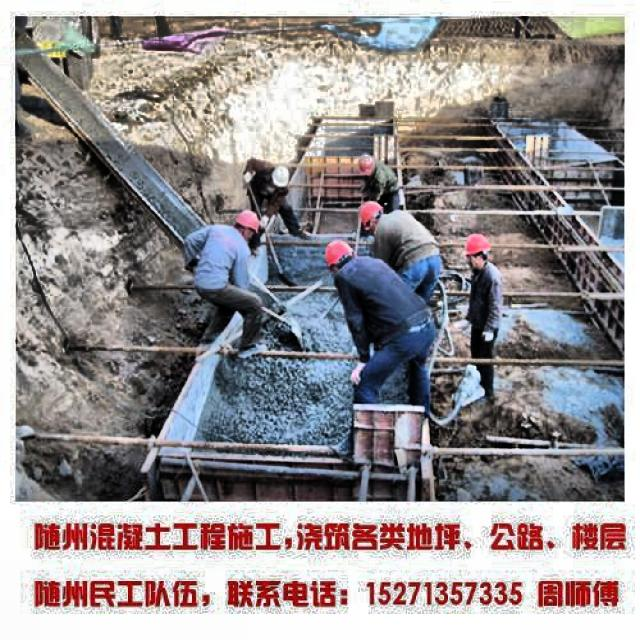helmet: (226, 204, 264, 247), (317, 230, 353, 274), (463, 232, 498, 276), (349, 198, 388, 235), (264, 158, 296, 196), (355, 154, 380, 182)
